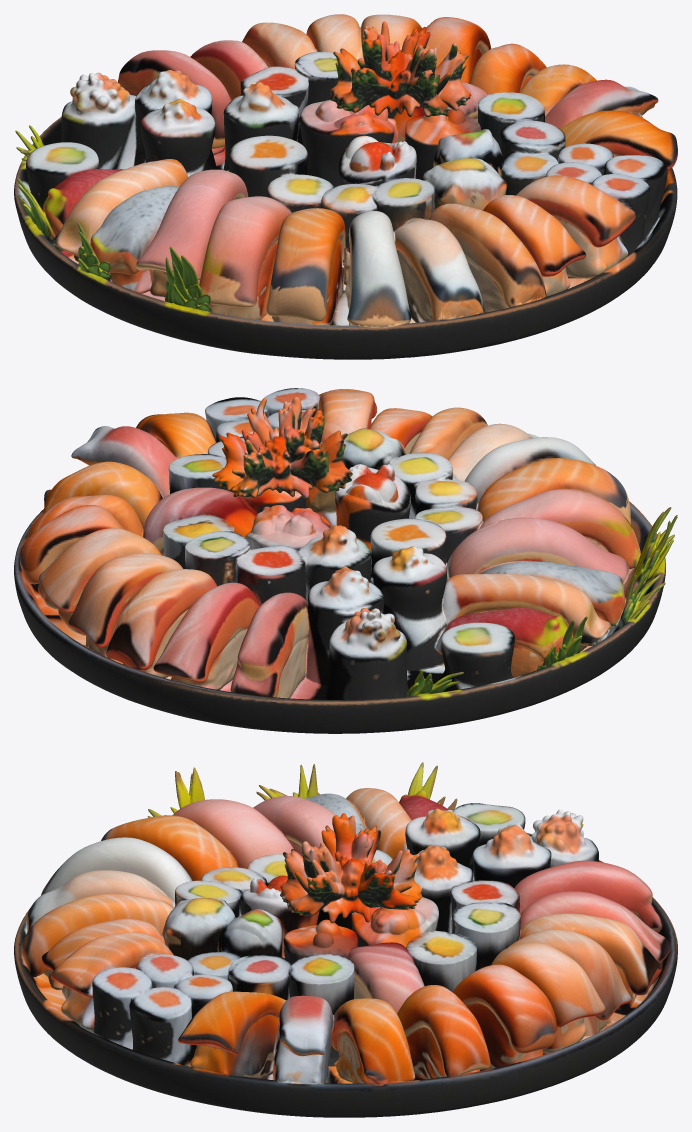
File: Matcha-Ice-Cream.glb
3 renders of one model, top to bottom at view 1: azimuth 30°, elevation 25°; view 2: azimuth 150°, elevation 25°; view 3: azimuth 270°, elevation 25°, orthographic.
Visible parts, largest first — view 1: tripo_node_7a9153a0-0764-4ea1-80fc-3cd251da755a; view 2: tripo_node_7a9153a0-0764-4ea1-80fc-3cd251da755a; view 3: tripo_node_7a9153a0-0764-4ea1-80fc-3cd251da755a.
Part boxes in pixels (<box>): tripo_node_7a9153a0-0764-4ea1-80fc-3cd251da755a: <box>14,14,677,359</box>; tripo_node_7a9153a0-0764-4ea1-80fc-3cd251da755a: <box>14,388,677,733</box>; tripo_node_7a9153a0-0764-4ea1-80fc-3cd251da755a: <box>14,762,677,1117</box>.
Bounding box in the file's own units: 0.2933 × 0.089 × 0.2939.
Materials: 1 (1 with a texture image).
